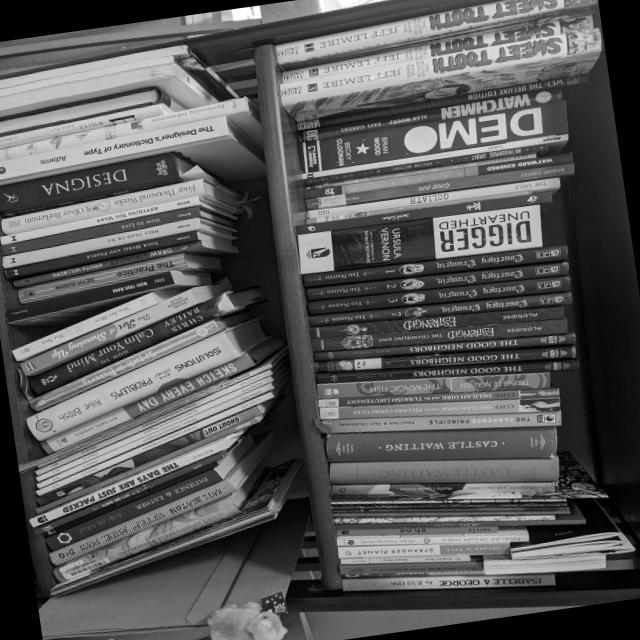book: (29, 364, 295, 501), (278, 27, 606, 126), (22, 316, 269, 445), (33, 361, 285, 478), (50, 467, 273, 597), (0, 112, 266, 213), (35, 279, 265, 394), (42, 373, 276, 480), (47, 455, 267, 567), (27, 305, 250, 415), (39, 350, 258, 457), (18, 272, 232, 380), (274, 0, 598, 71), (41, 413, 265, 513), (78, 346, 292, 449), (57, 389, 278, 488), (281, 14, 593, 83), (27, 432, 238, 530), (298, 100, 570, 174), (65, 401, 268, 495), (2, 253, 212, 342), (295, 204, 544, 275), (33, 450, 225, 541), (0, 96, 263, 162), (295, 73, 588, 132), (44, 465, 224, 553), (298, 87, 562, 144), (301, 134, 569, 190), (0, 175, 242, 236), (11, 280, 182, 364), (305, 162, 576, 213), (0, 149, 194, 219), (303, 152, 572, 200), (0, 192, 238, 246), (2, 226, 231, 281), (10, 235, 238, 289), (0, 203, 231, 256), (14, 246, 221, 305), (302, 244, 569, 289), (294, 191, 551, 236), (304, 260, 569, 303), (306, 275, 570, 316), (306, 177, 561, 219), (302, 144, 547, 187), (308, 291, 572, 329), (324, 425, 557, 465), (309, 318, 567, 353), (308, 306, 564, 340), (313, 332, 576, 363), (335, 501, 584, 533), (314, 345, 576, 374), (327, 152, 536, 188), (328, 456, 559, 488), (314, 358, 579, 385), (316, 372, 550, 400), (317, 397, 559, 421), (329, 410, 561, 435), (318, 387, 559, 409), (335, 525, 528, 551), (341, 571, 555, 593), (332, 482, 554, 498), (338, 558, 483, 581), (337, 541, 510, 560), (336, 523, 498, 540), (339, 555, 470, 565)
